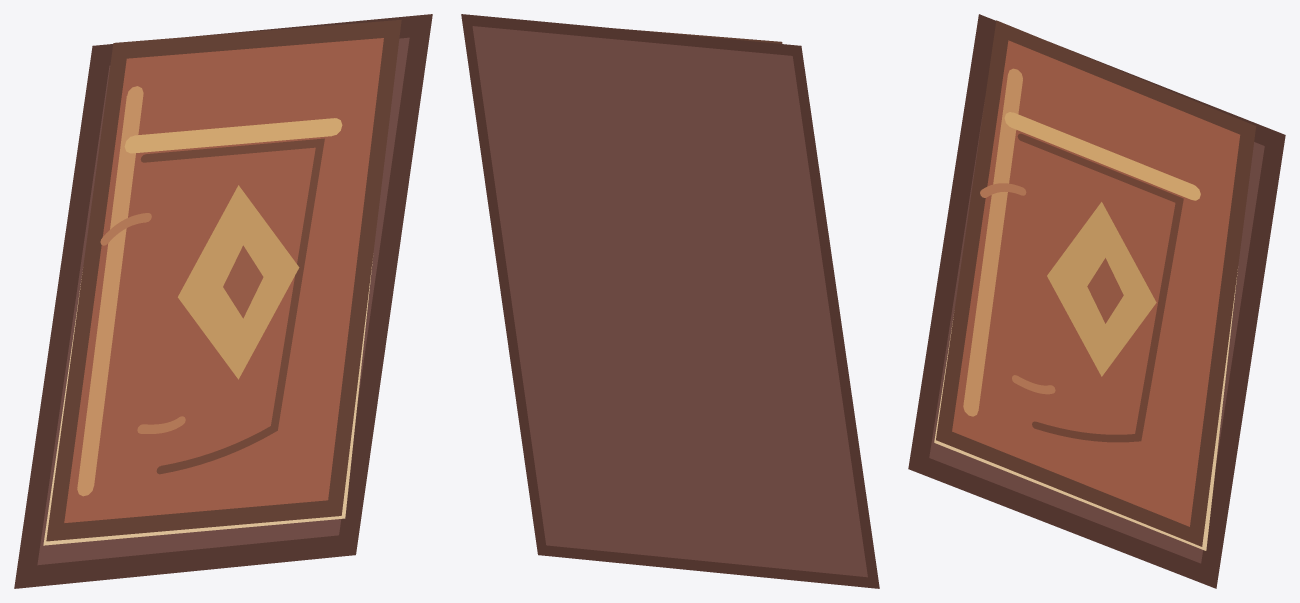
Rendered from carte.glb.
3 renders of one model, left to right at view 1: azimuth 30°, elevation 25°; view 2: azimuth 150°, elevation 25°; view 3: azimuth 330°, elevation 25°, orthographic. The views are drawn at different scales.
Parts seen in each view (by area): view 1: Carte groasă; view 2: Carte groasă; view 3: Carte groasă.
Boxes of the visible parts, <box> form: Carte groasă: <box>14,14,432,588</box>; Carte groasă: <box>461,14,879,588</box>; Carte groasă: <box>908,14,1285,588</box>.
Size of the model in its own units: 0.8459 by 1.11 by 0.0189.
